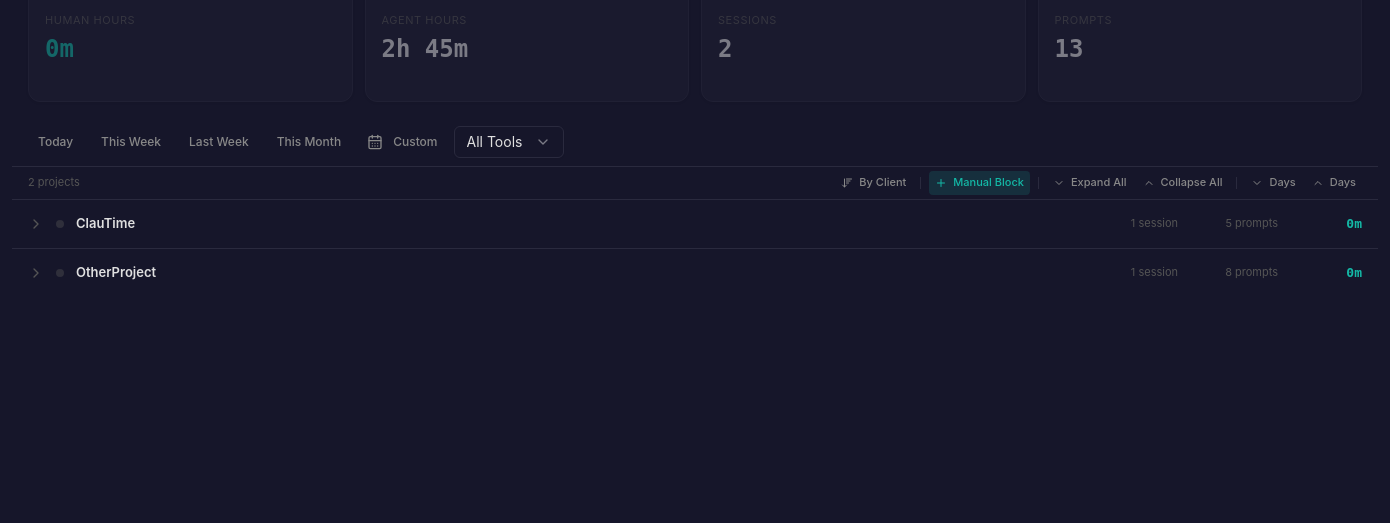
Test: SessionsPage › expands project group and day on click
Expected: the text "ClauTime" is shown, [76, 215, 135, 231]
Note: Expand project group — day headers appear (use Expand All to open everything)
What coordinates should you click on to do the following:
click the button "Expand All"
I would click on:
 (1090, 182)
Its box is [1047, 170, 1132, 194].
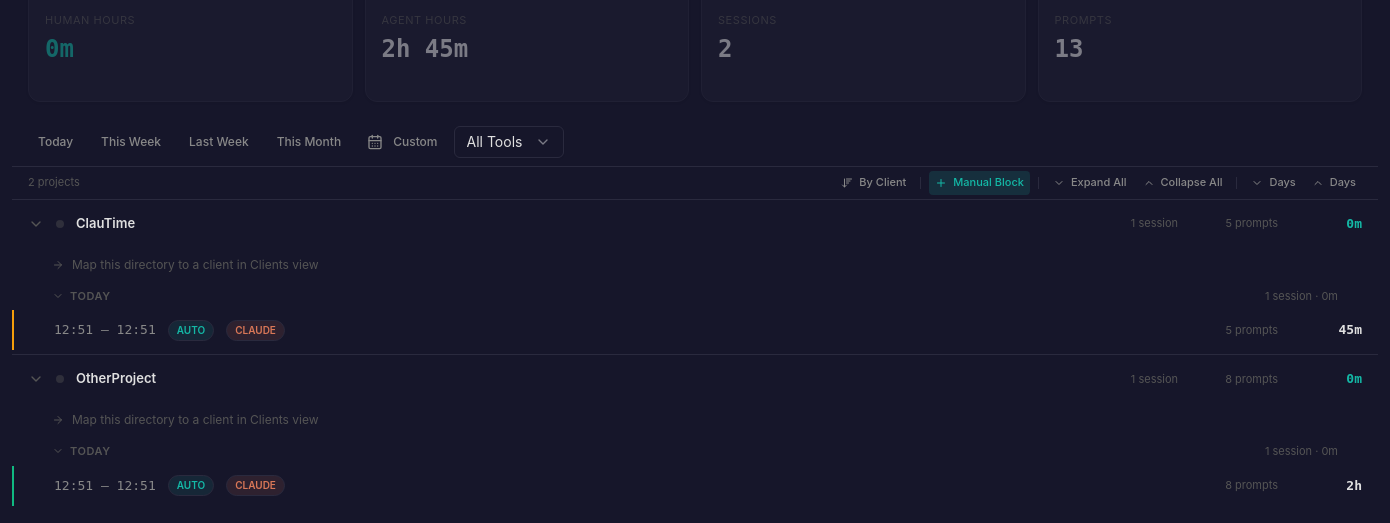
Now the text "Auto" below "ClauTime" is shown, box [177, 324, 205, 336]
